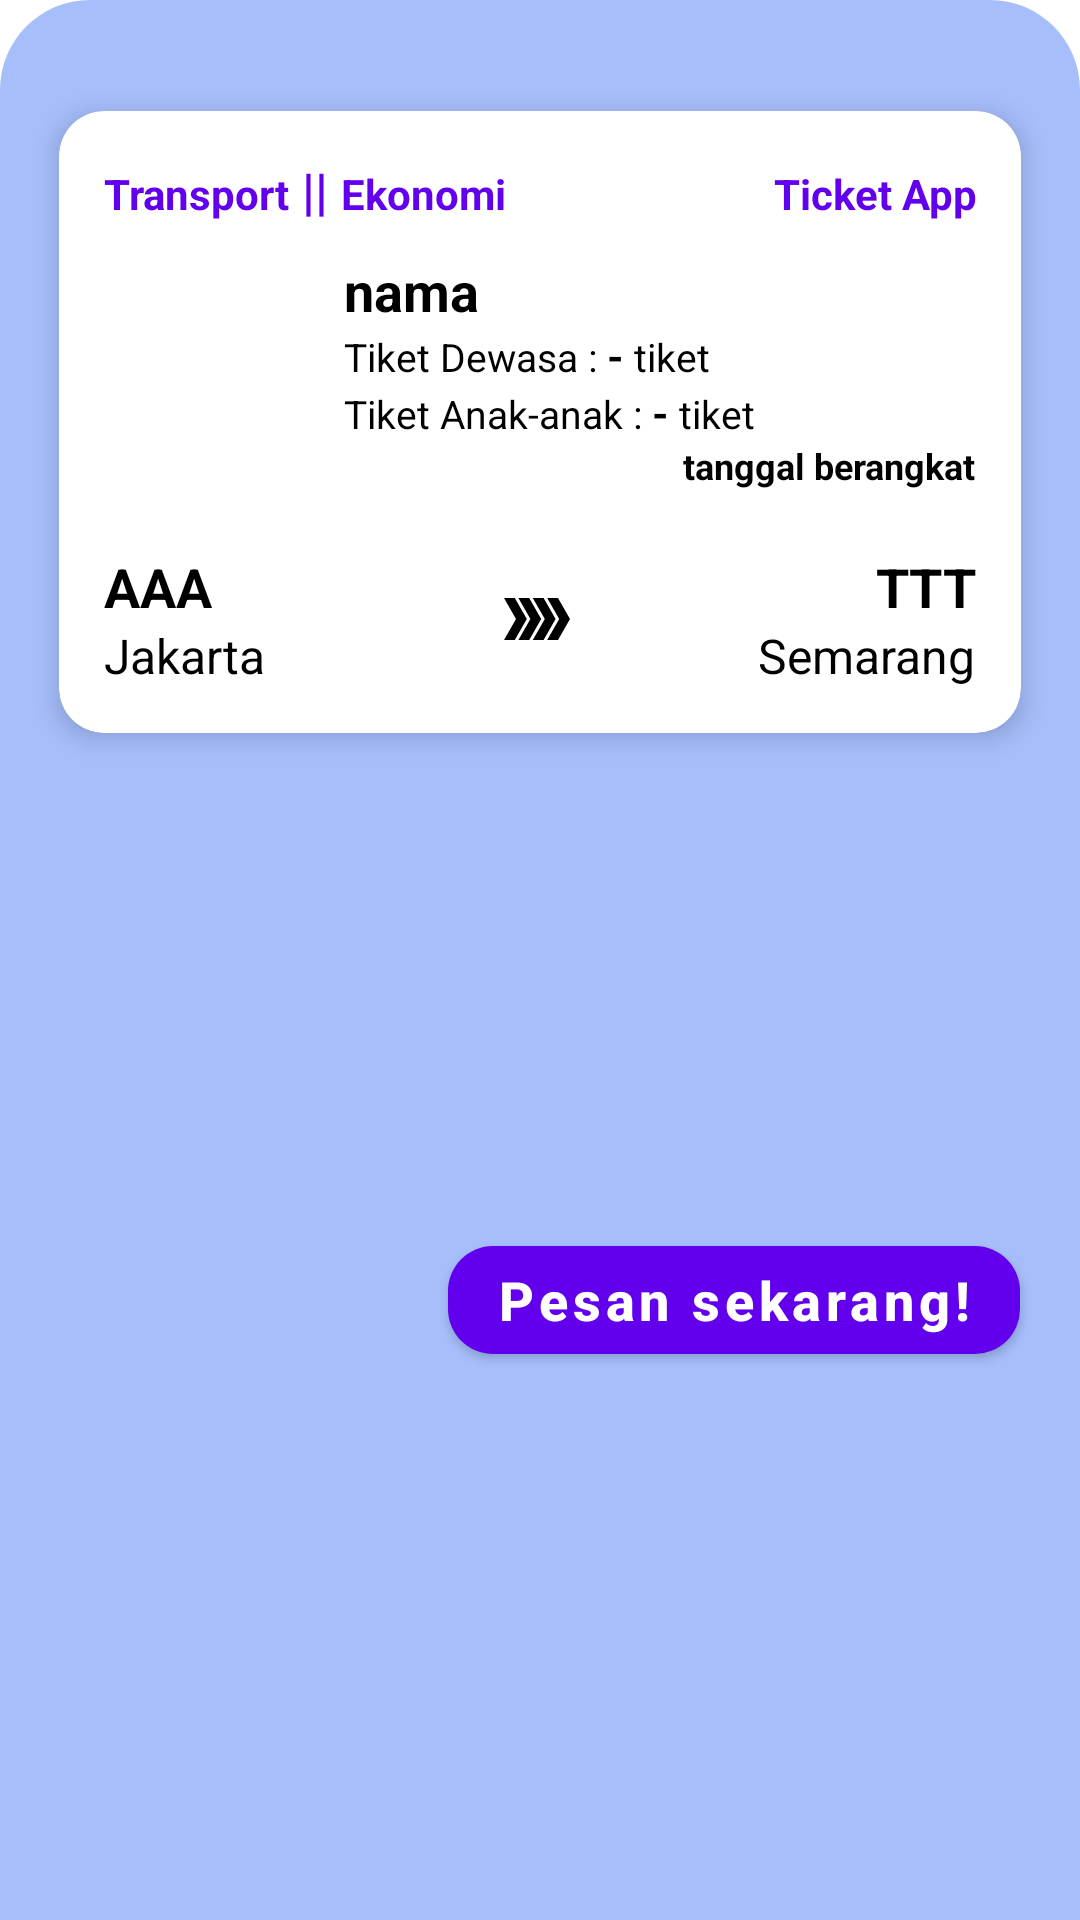

Locate icon controls on the screen. Image size 1080w x 1920h, boxes as (x1, y1, x2, y2).
double arrow: (504, 598, 570, 640)
